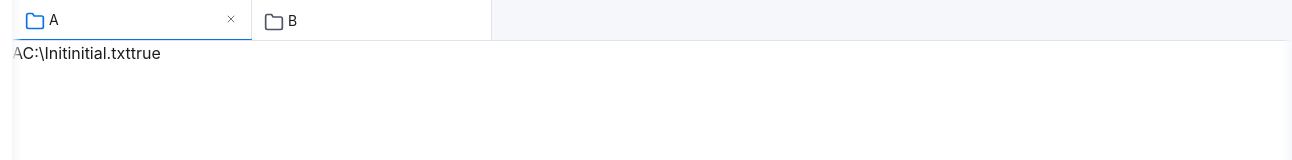
Test: TP-FE-STATE-03 / TP-FE-STATE-04 / TP-IPC-05: FileSystemProvider & HistoryProvider races (BUG-023) › R3: switching between identical Explorer paths invalidates an already running directory load
Later steps or results of the test are not shown.
Check: the text with test id "owner" reads "A", box [12,43,22,63]
Check: the text with test id "files" reads "initial.txt", box [67,43,131,63]
Click the text "B" at (293, 20), box [288,12,297,28]
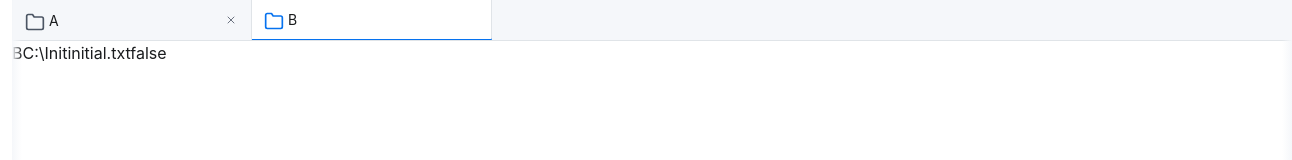
Check: the text with test id "files" reads "initial.txt", box [67,43,130,63]
Check: the text with test id "owner" reads "B", box [12,43,22,63]
Check: the text with test id "loading" reads "false", box [130,43,167,63]
